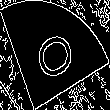O_SW: (30, 24, 80, 86)
